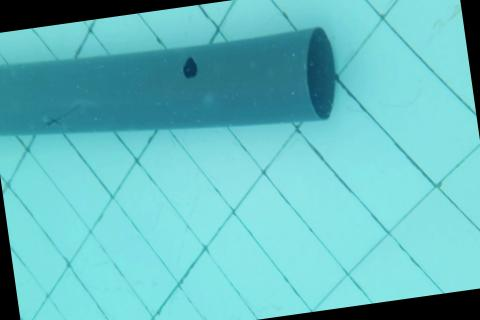kebocoran: (179, 56, 198, 79)
keretakan: (42, 103, 80, 128)
